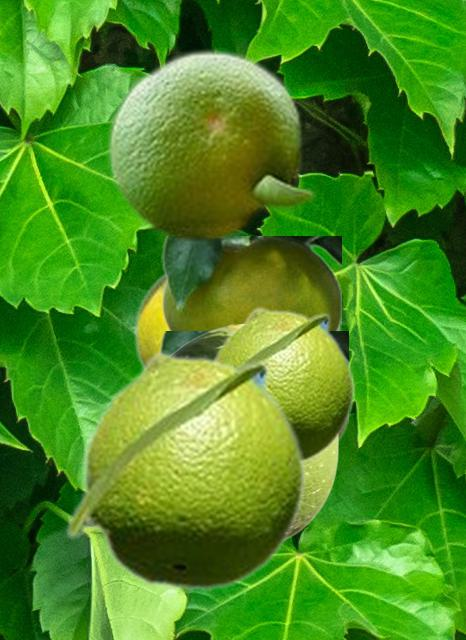dalandan: (63, 350, 307, 592), (105, 46, 317, 242), (175, 324, 338, 537), (212, 306, 355, 465), (158, 331, 347, 445), (133, 272, 340, 366), (161, 236, 340, 330)
